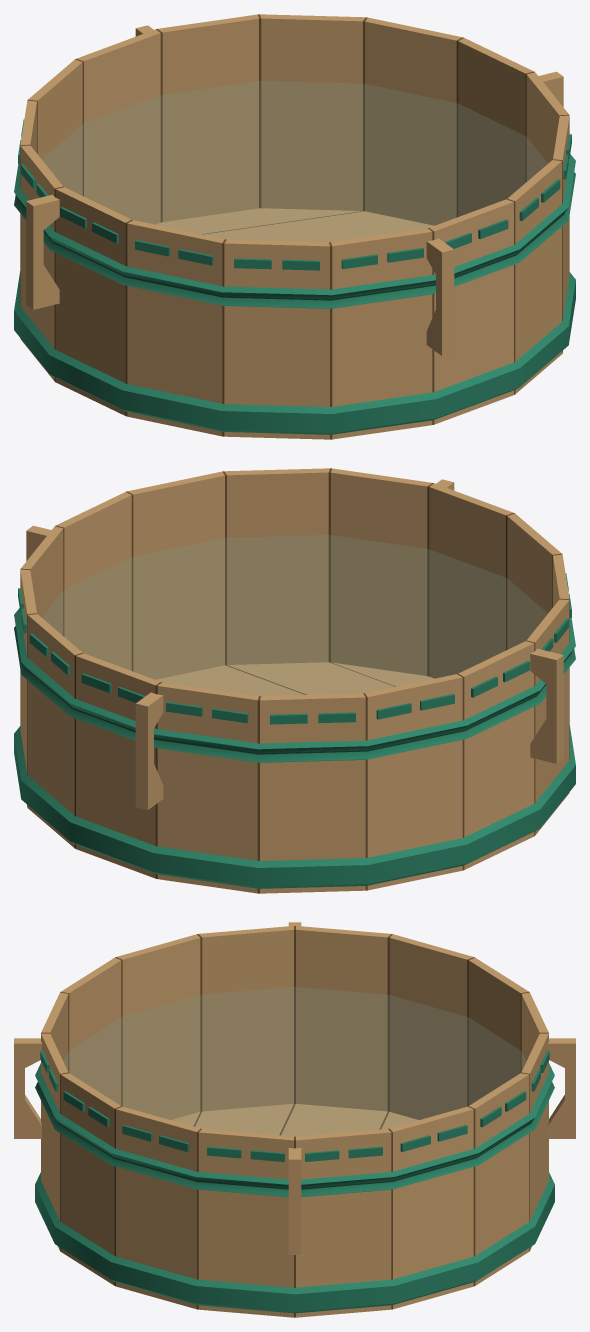
Rendered from 34_bontamgo_2.fbx.
The picture shows the model from 3 angles, top to bottom: view 1: azimuth 30°, elevation 25°; view 2: azimuth 150°, elevation 25°; view 3: azimuth 270°, elevation 25°; orthographic projection. The views are drawn at different scales.
Visible parts, largest first — view 1: 34_bontamgo_2, 34_water_plane_2, 34_bontamgo_2_2; view 2: 34_bontamgo_2, 34_water_plane_2, 34_bontamgo_2_2; view 3: 34_bontamgo_2, 34_water_plane_2, 34_bontamgo_2_2.
Part boxes in pixels (x1,y1,x2,y2): 34_bontamgo_2: (20,14,569,439); 34_water_plane_2: (42,81,547,241); 34_bontamgo_2_2: (14,119,575,434); 34_bontamgo_2: (20,468,569,893); 34_water_plane_2: (42,535,547,695); 34_bontamgo_2_2: (14,573,575,888); 34_bontamgo_2: (14,922,575,1317); 34_water_plane_2: (64,987,525,1135); 34_bontamgo_2_2: (35,1050,554,1313).
Bounding box in the file's own units: 768 × 267 × 768.
